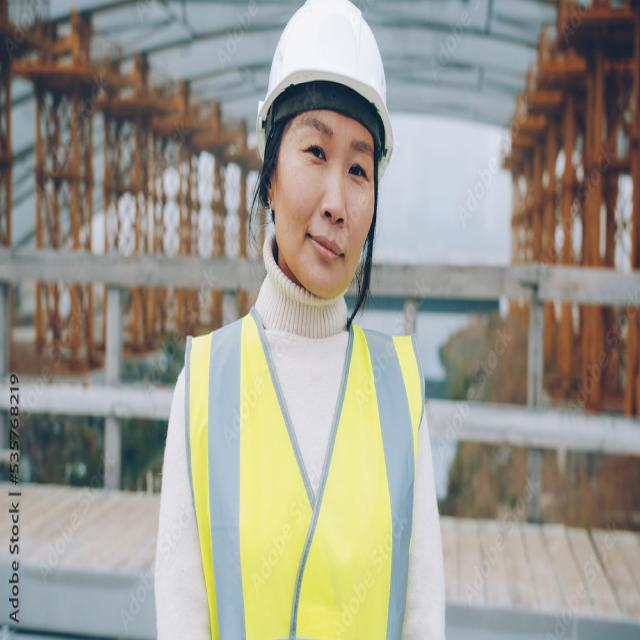helmet: (248, 0, 403, 164)
no-goggles: (272, 125, 379, 192)
vest: (179, 284, 415, 640)
